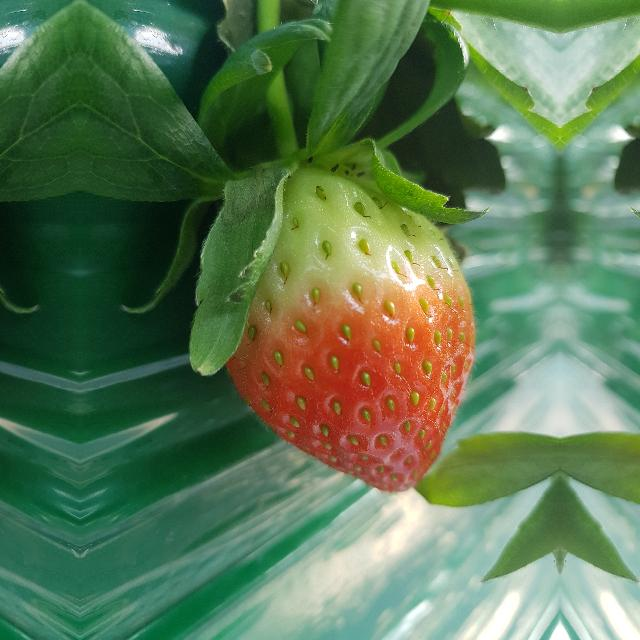Health_75: (213, 162, 477, 494)
